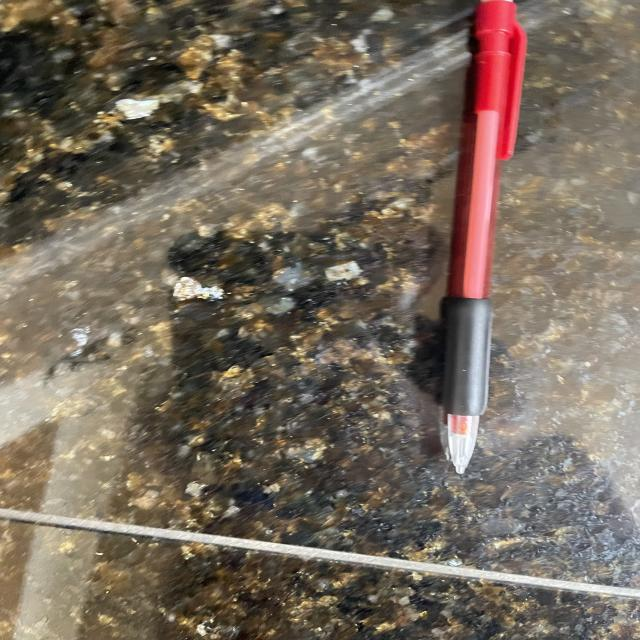mechanical-pencils: (447, 4, 533, 481)
